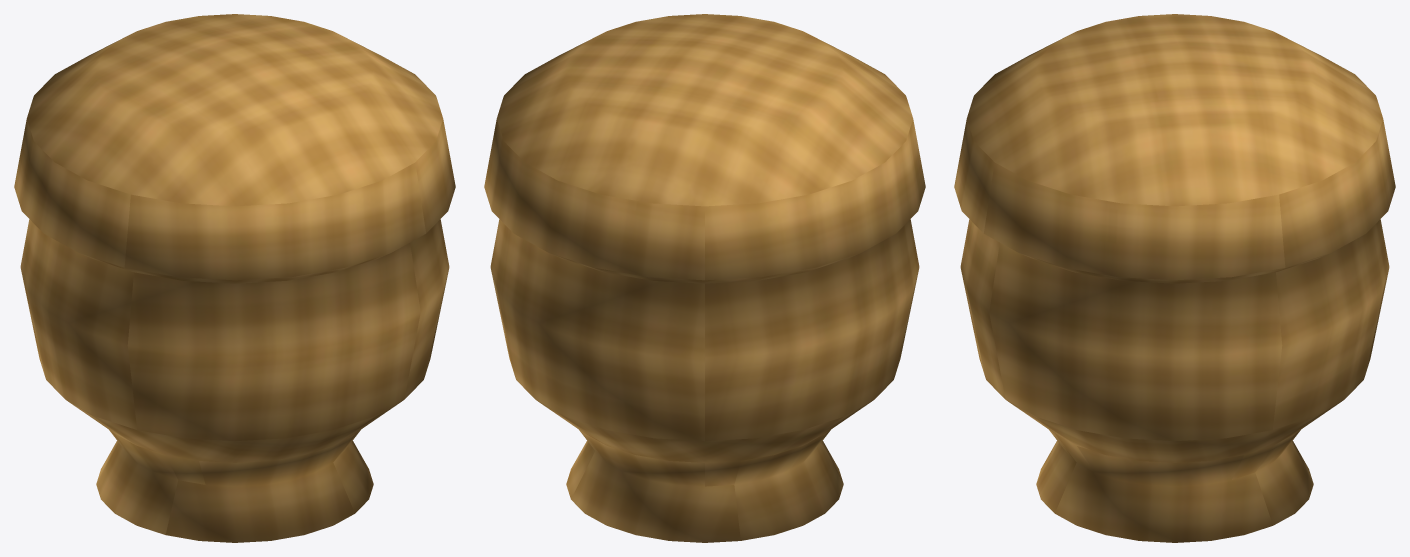
File: tip-khao-basket.glb
3 renders of one model, left to right at view 1: azimuth 30°, elevation 25°; view 2: azimuth 150°, elevation 25°; view 3: azimuth 270°, elevation 25°, orthographic.
Visible parts, largest first — view 1: tip_khao_body; view 2: tip_khao_body; view 3: tip_khao_body.
Part boxes in pixels (box(x1,y1,x2,y2)): tip_khao_body: box(14, 14, 455, 542); tip_khao_body: box(484, 14, 925, 542); tip_khao_body: box(954, 14, 1395, 542).
Size of the model in its own units: 0.7 by 0.75 by 0.7.
Materials: 1 (1 with a texture image).
